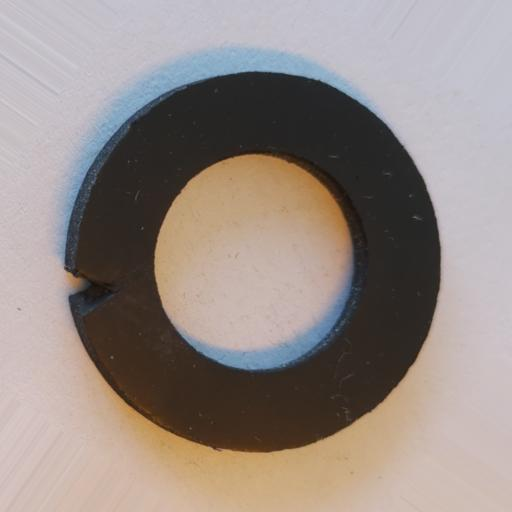defect: (66, 268, 120, 320)
